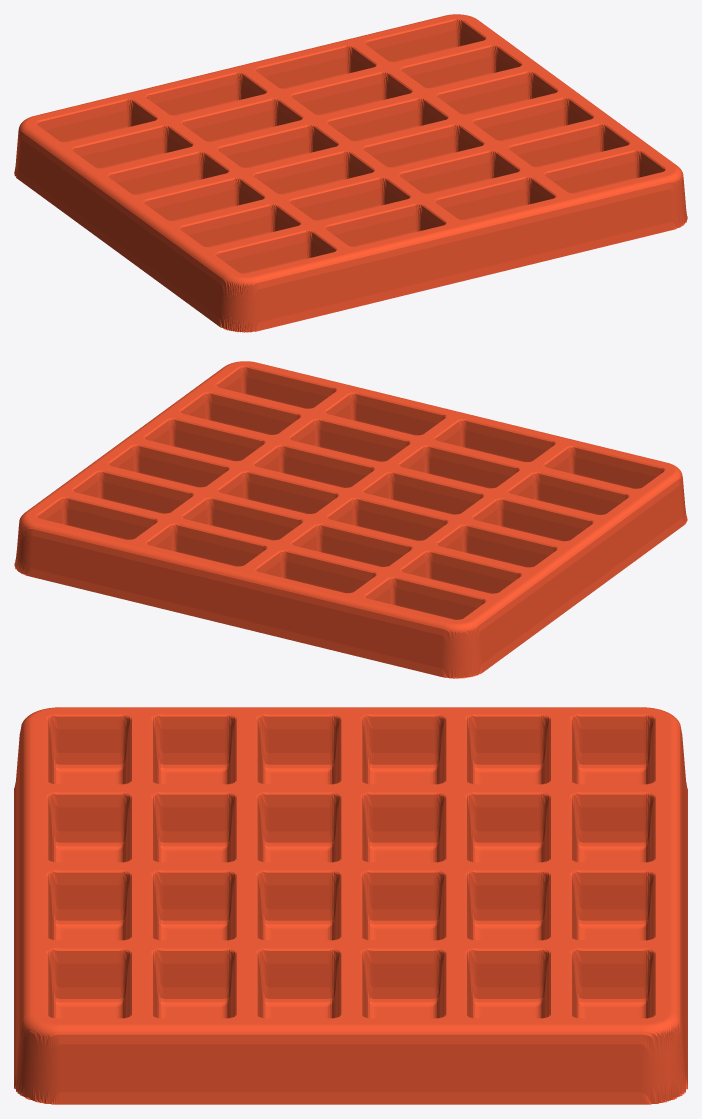
File: mold.glb
3 views of the same model, one above another, from view 1: azimuth 30°, elevation 25°; view 2: azimuth 150°, elevation 25°; view 3: azimuth 270°, elevation 25° (orthographic). The views are drawn at different scales.
Visible parts, largest first — view 1: geometry_0; view 2: geometry_0; view 3: geometry_0.
Boxes of the visible parts, box(x1,y1,x2,y2) form: geometry_0: box(14, 14, 687, 332); geometry_0: box(14, 361, 687, 678); geometry_0: box(14, 707, 687, 1104).
Bounding box in the file's own units: 0.1561 × 0.0159 × 0.1342.
